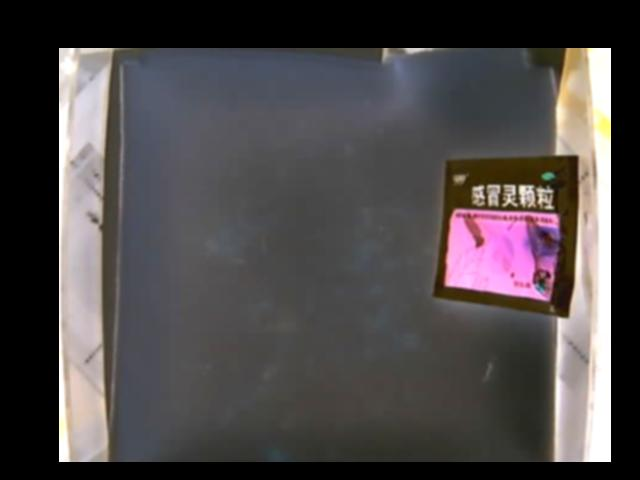Medicine: (428, 152, 582, 315)
